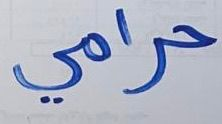hah: (169, 17, 216, 60)
reh: (135, 27, 167, 96)
teh_marbota: (76, 28, 113, 60), (114, 4, 134, 48)
yeh: (11, 46, 75, 107)
